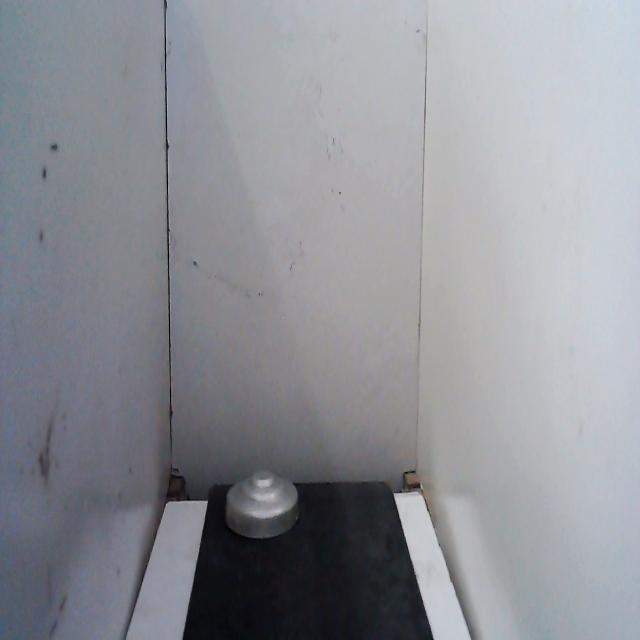metal: (217, 446, 309, 558)
